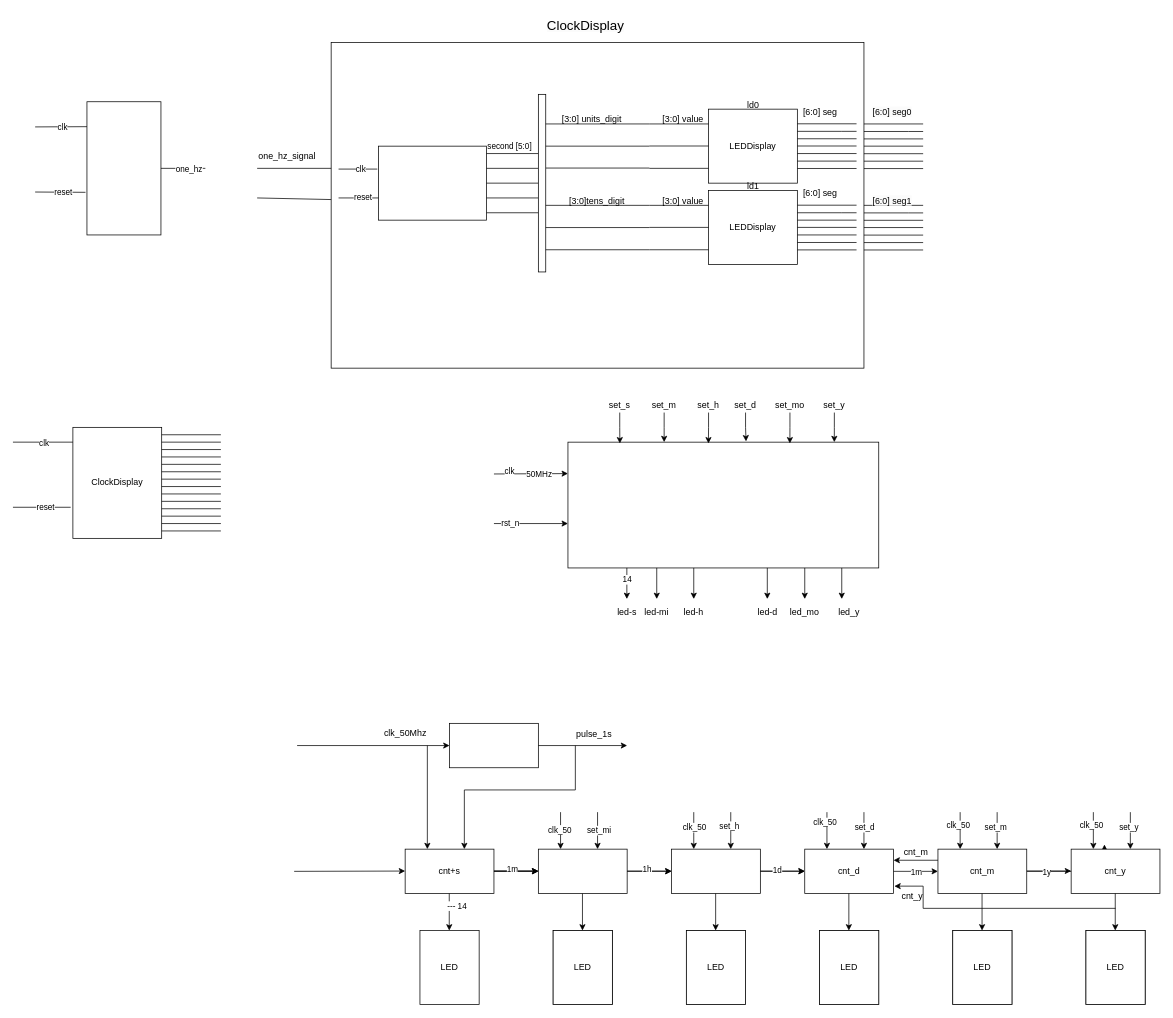
The diagram is 1173 pixels wide and 1018 high, and some of its shapes have lost their labels. Here are the shapes that lost their labels. From the top down, the centre of each, then its label:
At (123,168): "one_hz_clock".
At (432,182): "SecondCounter".
At (582,871): "cnt+mi".
At (715,871): "cnt_h".
